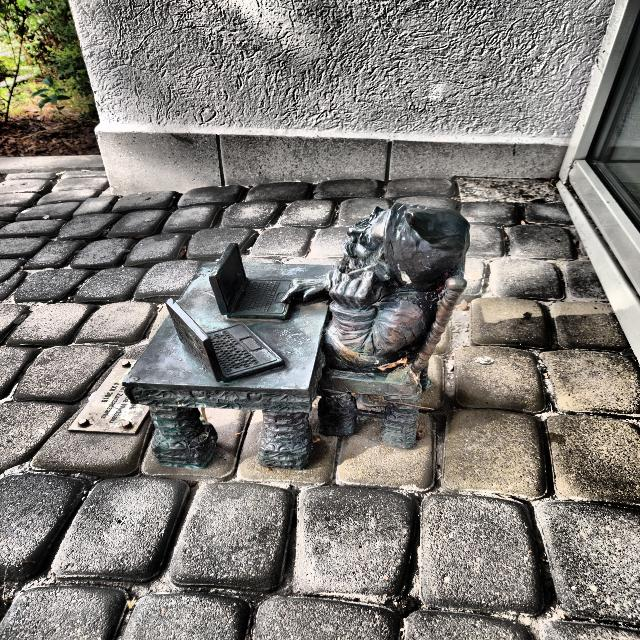WIZek: (123, 204, 470, 469)
